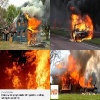fire: (2, 52, 50, 90), (53, 54, 94, 90), (70, 13, 93, 42), (25, 13, 40, 44), (70, 6, 75, 11), (18, 21, 20, 26), (22, 32, 24, 36), (22, 22, 24, 26), (54, 90, 55, 94)
